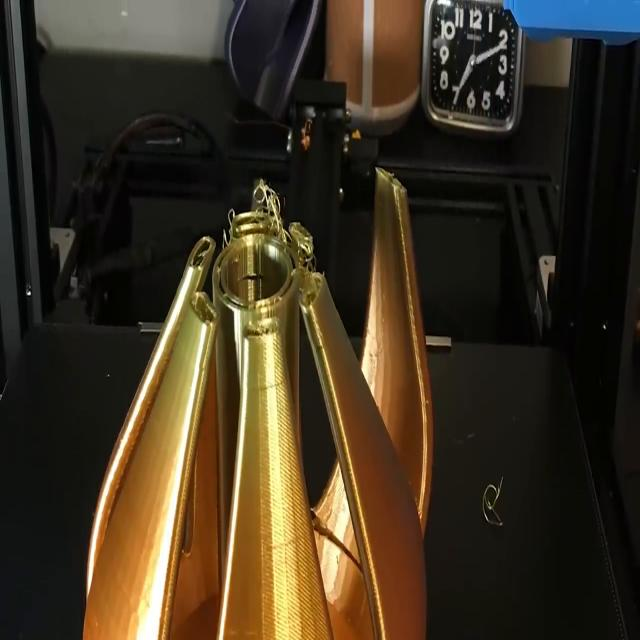spaghetti: (218, 173, 320, 286), (476, 462, 510, 538)
